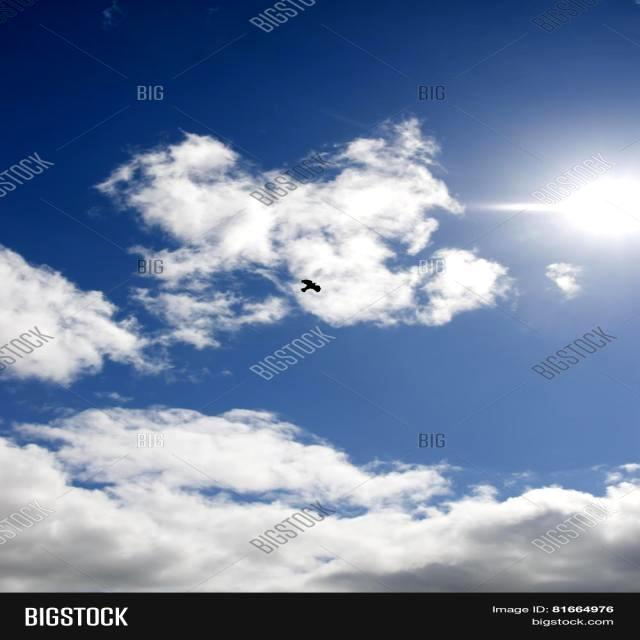bird: (290, 271, 322, 296)
